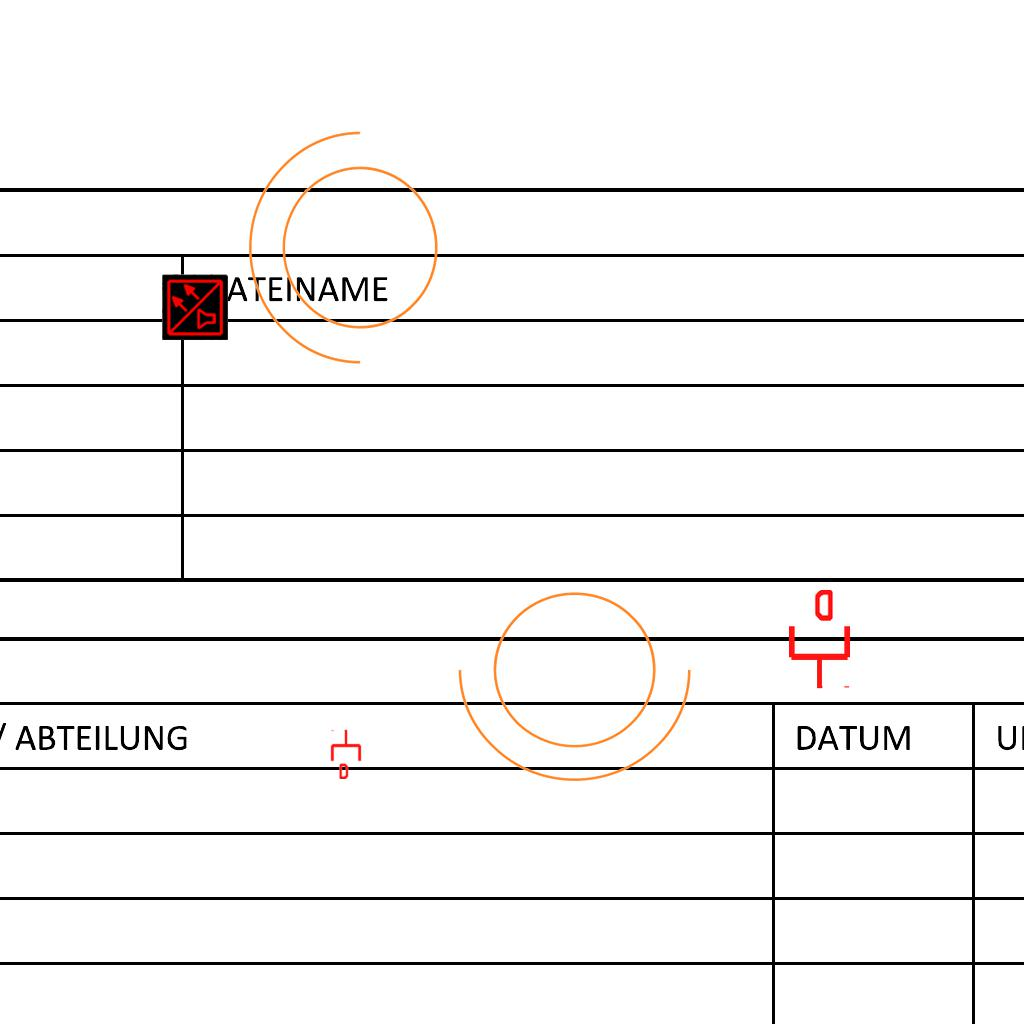Datenanschluss_einfach: (785, 590, 854, 690), (329, 729, 363, 779)
OKW_Multisensormelder_(Kombination_optischer_Rauch-Kahlenmonoxid_Waerme-Melder): (162, 274, 228, 340)
Scheinwerfer_fuer_Alarmbeleuchtung: (238, 122, 463, 386), (449, 567, 713, 792)
